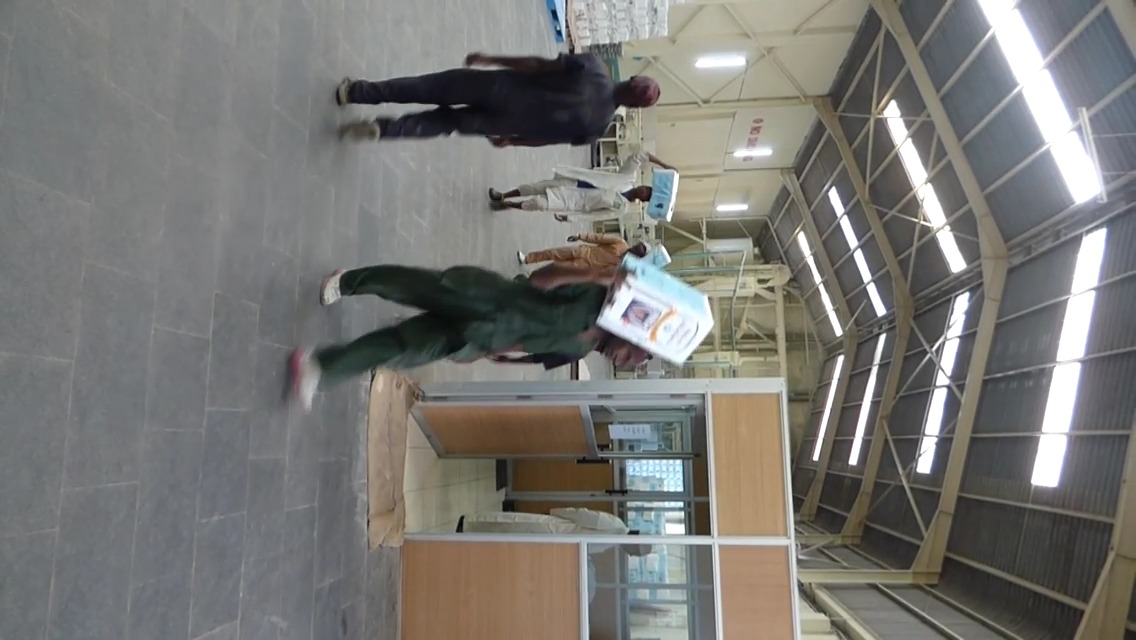wheat_flour_blue_label: (596, 254, 716, 368), (648, 167, 674, 217)
